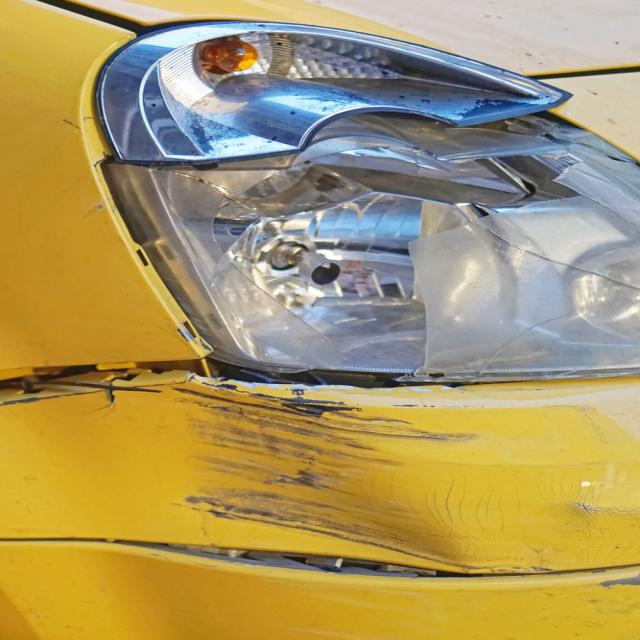Cabossage: (0, 392, 640, 625)
Phare abime: (118, 87, 627, 355)
Rayure: (111, 366, 522, 543)
